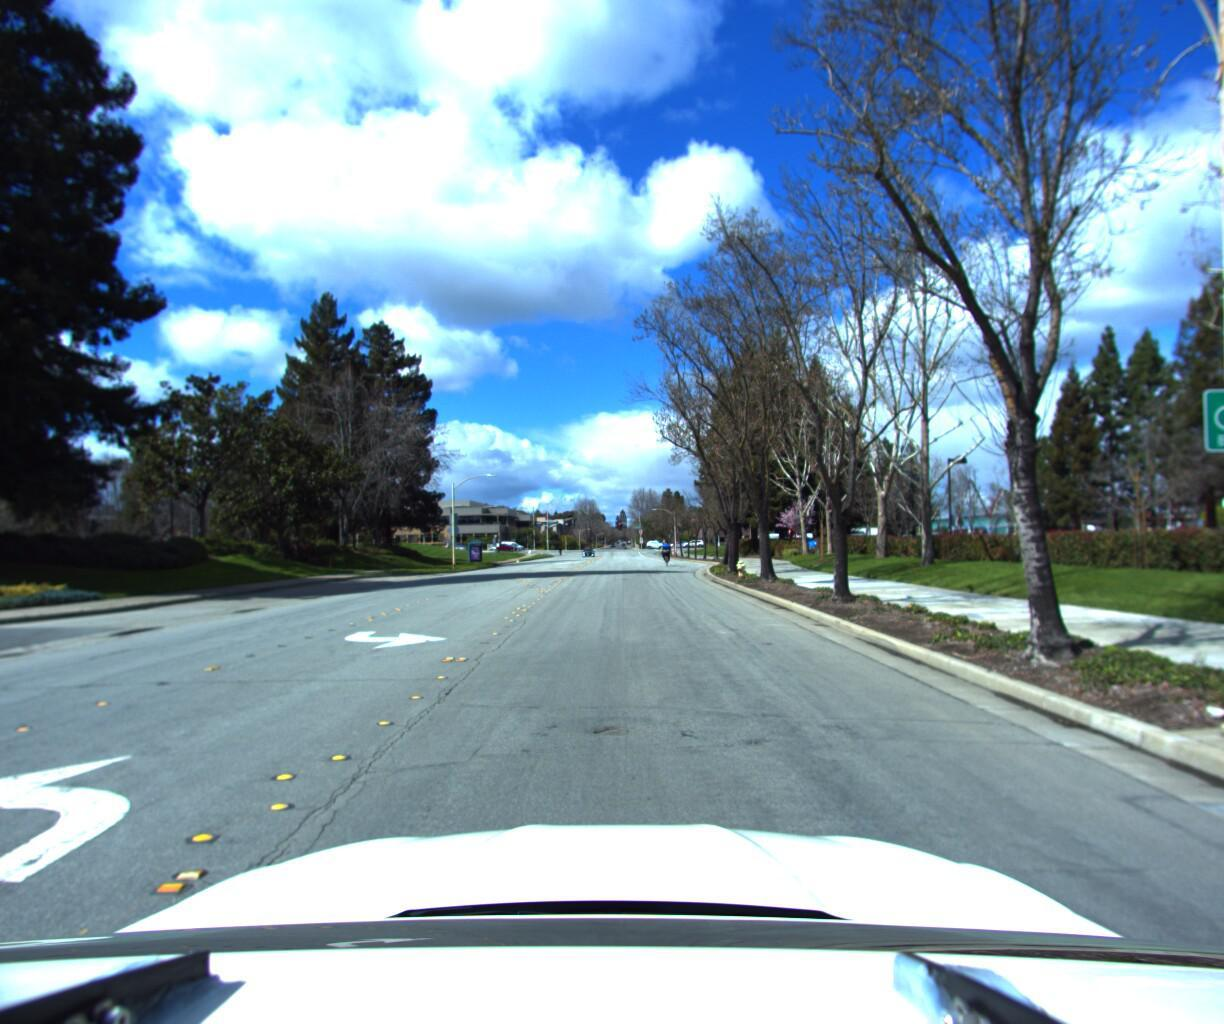bicycle: (659, 538, 672, 566)
